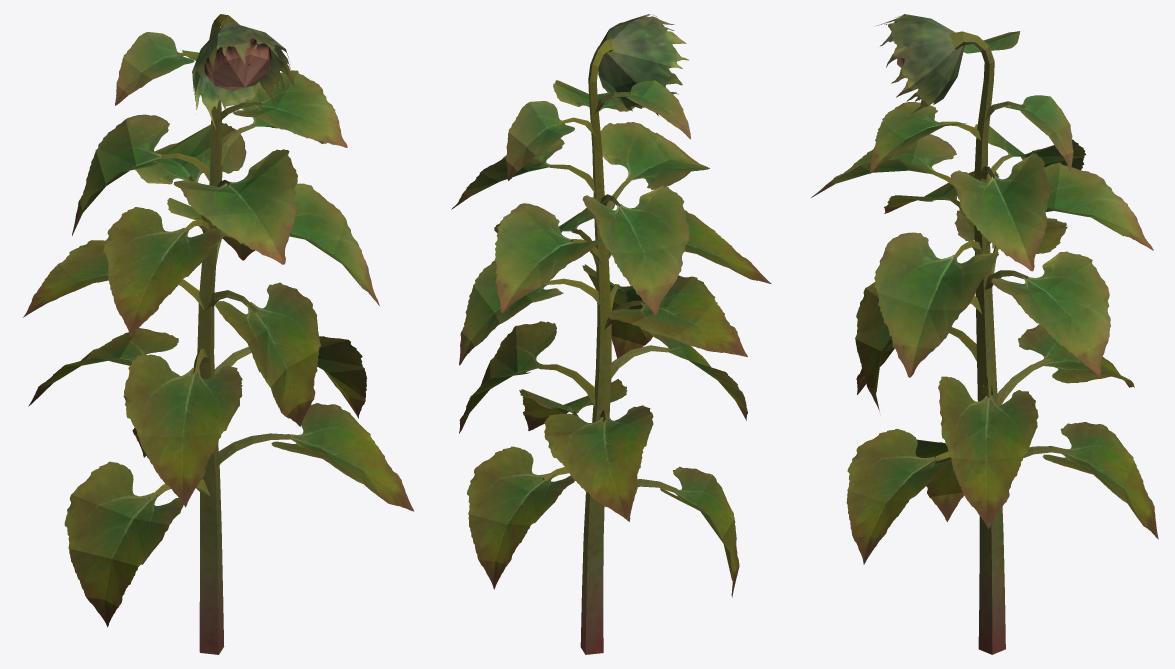
The model's file is P_Herb_00331.obj.
3 renders of one model, left to right at view 1: azimuth 30°, elevation 25°; view 2: azimuth 150°, elevation 25°; view 3: azimuth 270°, elevation 25°, orthographic. The views are drawn at different scales.
Size of the model in its own units: 1.02 by 1.9 by 0.9765.
Materials: 1 (1 with a texture image).
